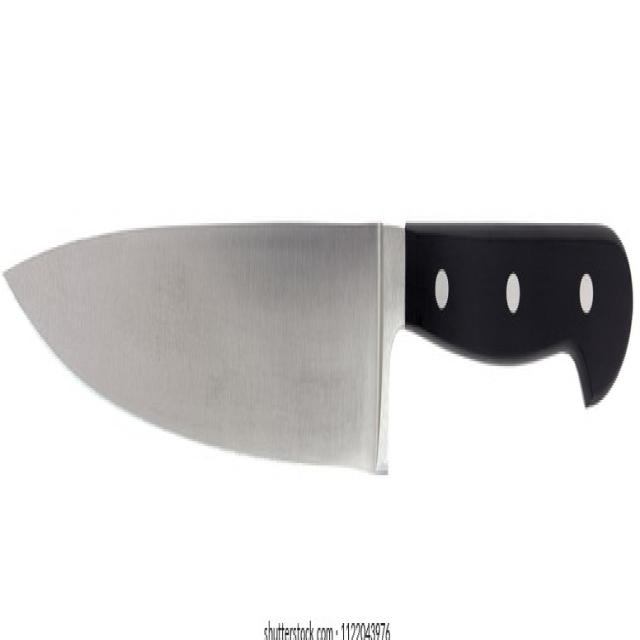Weapon: (5, 223, 633, 470)
